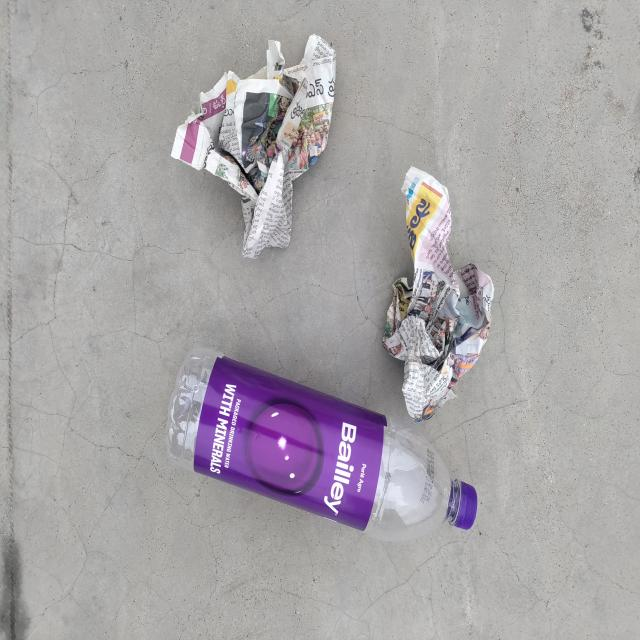dry: (165, 341, 478, 541), (170, 32, 338, 260), (384, 164, 493, 421)
